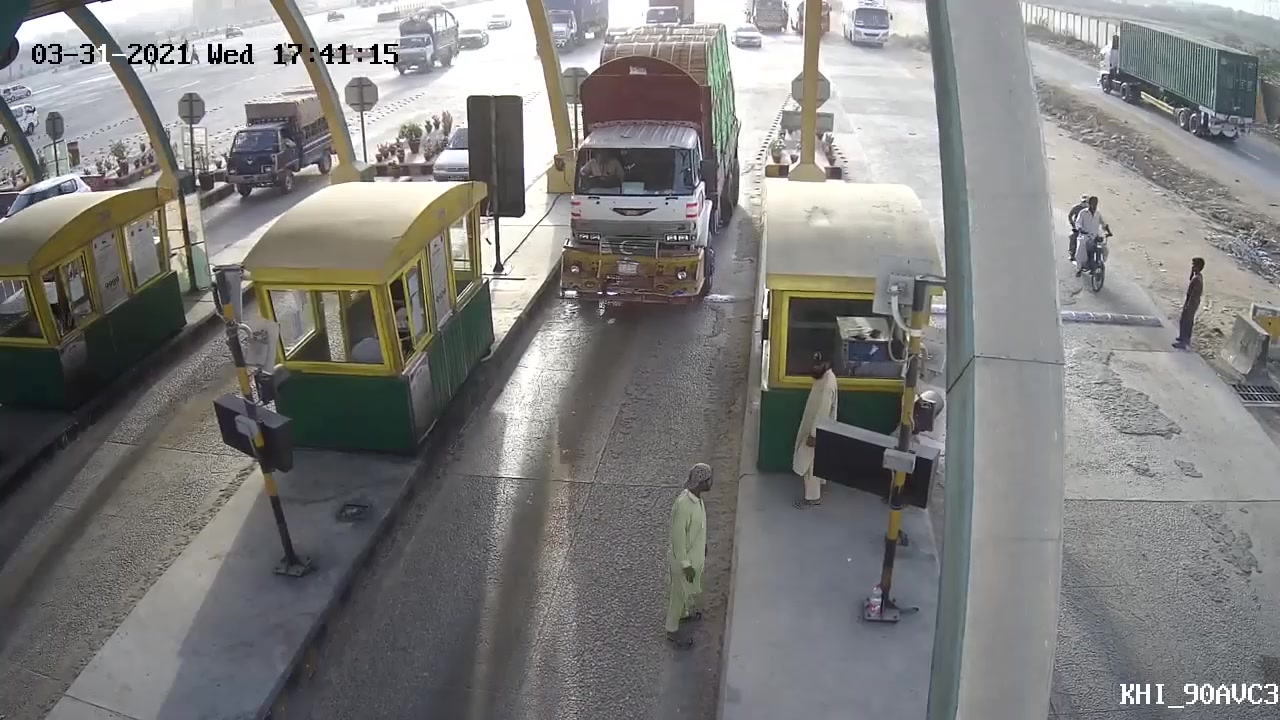F5: (547, 8, 745, 313)
